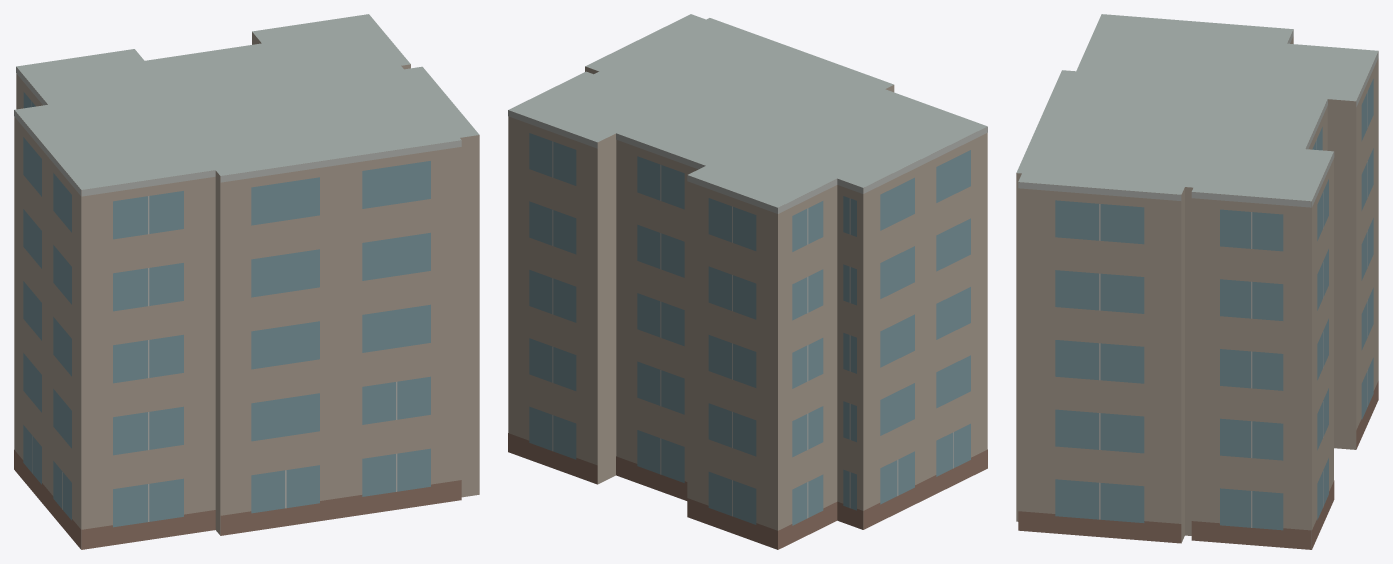
The model's file is survey-upis-32719370.glb.
3 renders of one model, left to right at view 1: azimuth 30°, elevation 25°; view 2: azimuth 150°, elevation 25°; view 3: azimuth 270°, elevation 25°, orthographic. The views are drawn at different scales.
Visible parts, largest first — view 1: survey-upis-32719370.tmp; view 2: survey-upis-32719370.tmp; view 3: survey-upis-32719370.tmp.
Boxes of the visible parts, x1,y1,x2,y2 form: survey-upis-32719370.tmp: [14, 14, 479, 549]; survey-upis-32719370.tmp: [508, 14, 987, 549]; survey-upis-32719370.tmp: [1016, 14, 1378, 549].
Size of the model in its own units: 15.39 by 13.35 by 12.59.
